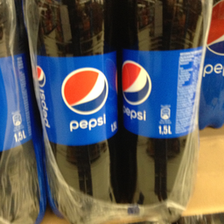soda: (23, 1, 122, 224), (119, 1, 211, 223)
